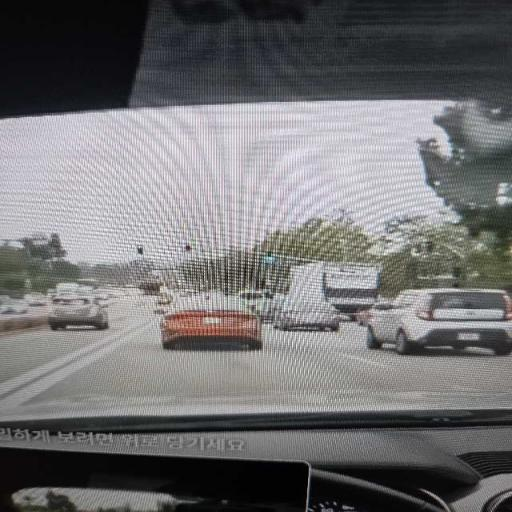car: (367, 289, 511, 354), (161, 297, 262, 349), (274, 296, 349, 331), (48, 297, 108, 330), (355, 299, 389, 325), (236, 290, 271, 315), (260, 295, 285, 322), (0, 299, 28, 313), (24, 293, 47, 306)
lane: (0, 308, 511, 411), (0, 299, 148, 382)
truck: (288, 262, 382, 317), (56, 283, 79, 292)
